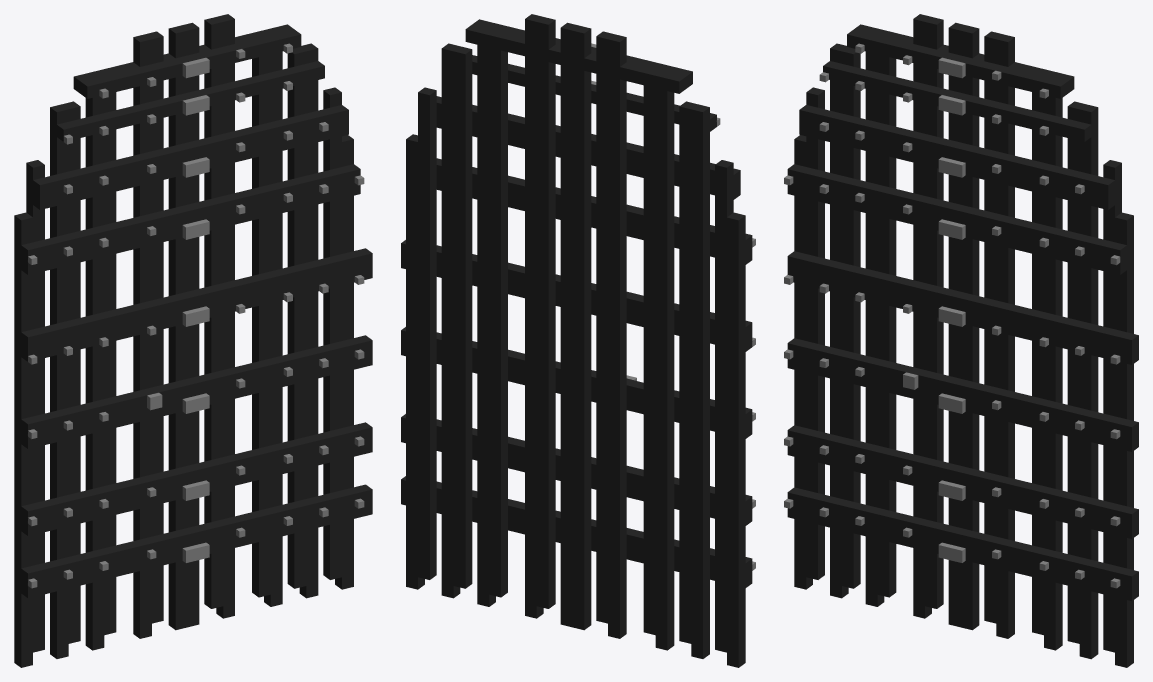
The model's file is giant gate_1.fbx.
3 renders of one model, left to right at view 1: azimuth 30°, elevation 25°; view 2: azimuth 150°, elevation 25°; view 3: azimuth 330°, elevation 25°, orthographic.
Visible parts, largest first — view 1: giant gate_1.001; view 2: giant gate_1.001; view 3: giant gate_1.001.
Part boxes in pixels (x1,y1,x2,y2): giant gate_1.001: (14,14,372,667); giant gate_1.001: (401,14,755,667); giant gate_1.001: (784,14,1138,667).
Bounding box in the file's own units: 5.8 × 9.6 × 0.5.
